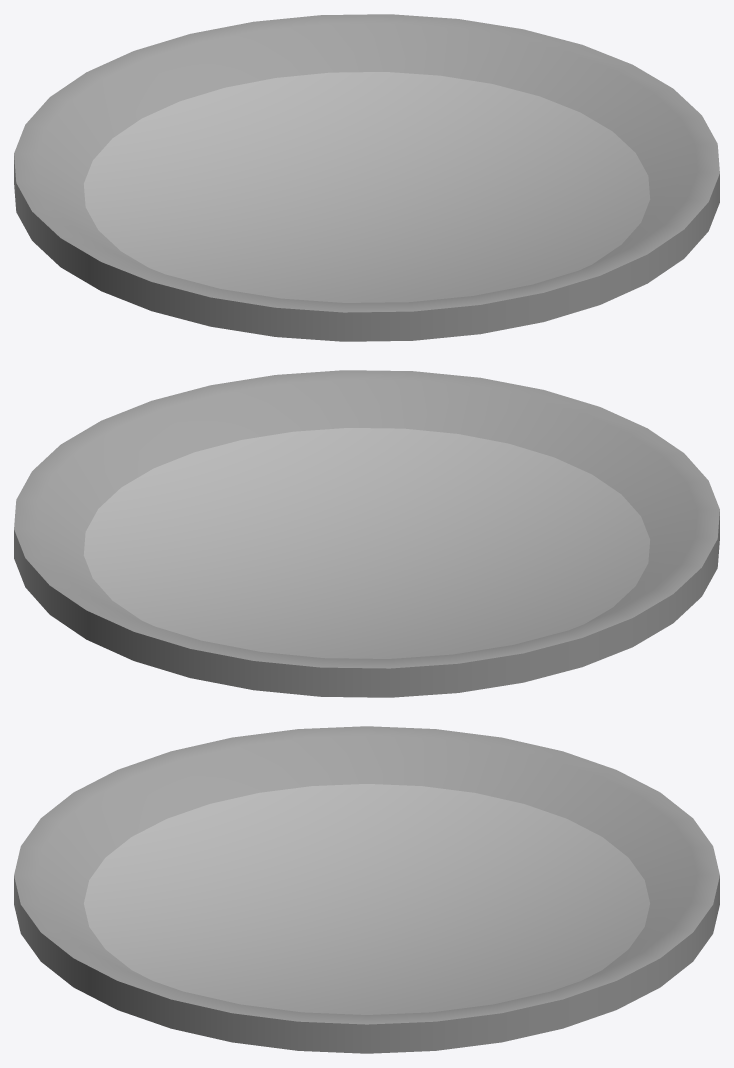
File: prop_plate.fbx
The picture shows the model from 3 angles, top to bottom: view 1: azimuth 30°, elevation 25°; view 2: azimuth 150°, elevation 25°; view 3: azimuth 270°, elevation 25°; orthographic projection.
Parts seen in each view (by area): view 1: plate; view 2: plate; view 3: plate.
Part boxes in pixels (<box>): plate: <box>14,14,719,341</box>; plate: <box>14,370,719,697</box>; plate: <box>14,726,719,1053</box>.
Size of the model in its own units: 0.3179 by 0.0145 by 0.3179.
